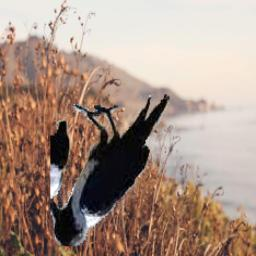Crow: (49, 90, 168, 247)
